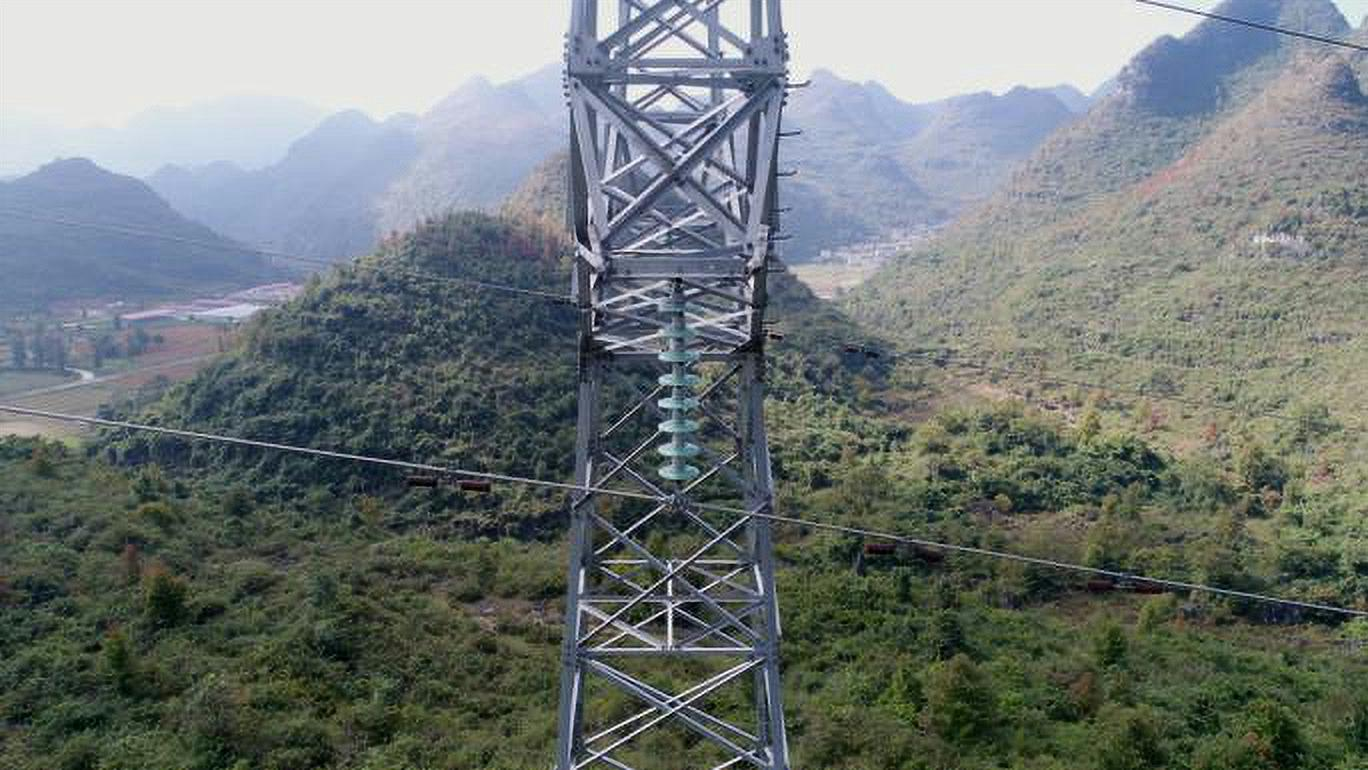insulator: (650, 296, 704, 483)
